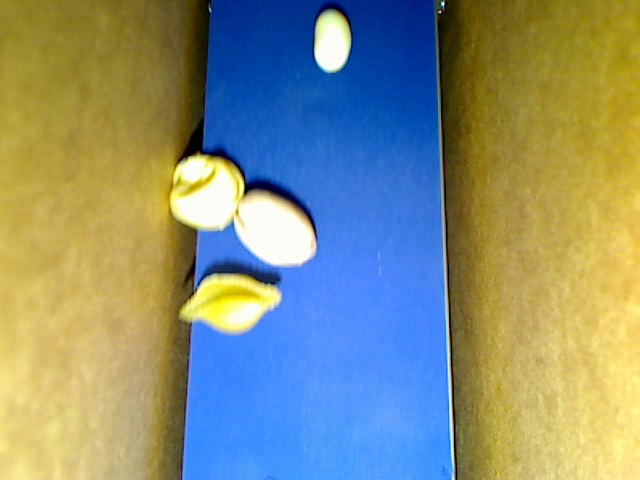shell: (177, 272, 282, 335)
tortellini: (169, 151, 244, 232)
